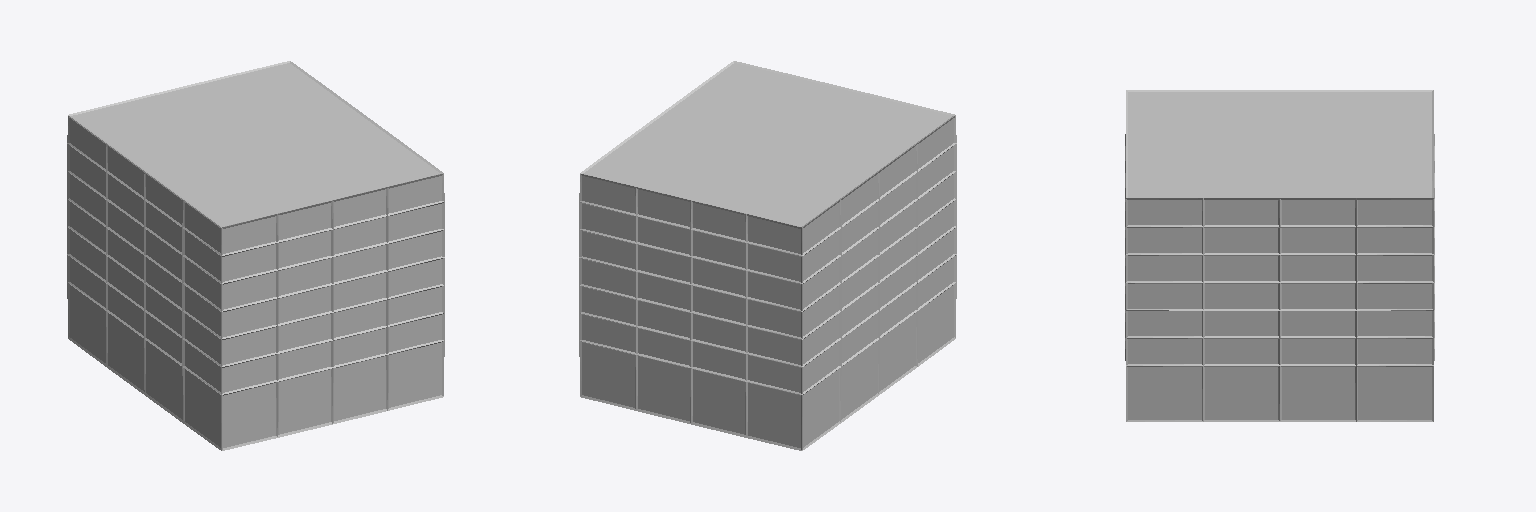
File: building04.obj
3 renders of one model, left to right at view 1: azimuth 30°, elevation 25°; view 2: azimuth 150°, elevation 25°; view 3: azimuth 270°, elevation 25°, orthographic.
Visible parts, largest first — view 1: Cube.003; view 2: Cube.003; view 3: Cube.003.
Boxes of the visible parts, <box> form: Cube.003: <box>67,61,444,450</box>; Cube.003: <box>579,61,956,450</box>; Cube.003: <box>1125,90,1434,421</box>.
Size of the model in its own units: 2.53 by 2.42 by 3.03.